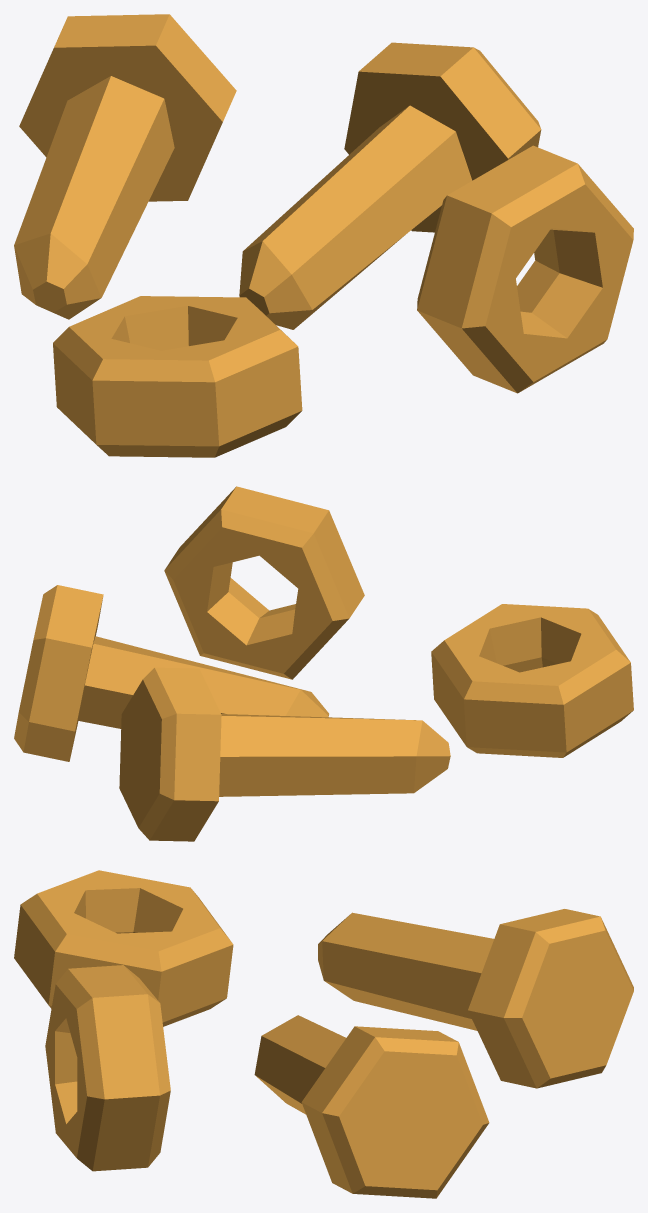
Rendered from screws.fbx.
The picture shows the model from 3 angles, top to bottom: view 1: azimuth 30°, elevation 25°; view 2: azimuth 150°, elevation 25°; view 3: azimuth 270°, elevation 25°; orthographic projection. The views are drawn at different scales.
Visible parts, largest first — view 1: screws; view 2: screws; view 3: screws.
Boxes of the visible parts, bbox=[...] form: screws: bbox=[14, 14, 633, 457]; screws: bbox=[14, 486, 633, 841]; screws: bbox=[14, 870, 633, 1198].
Bounding box in the file's own units: 0.2212 × 0.0748 × 0.2309.
